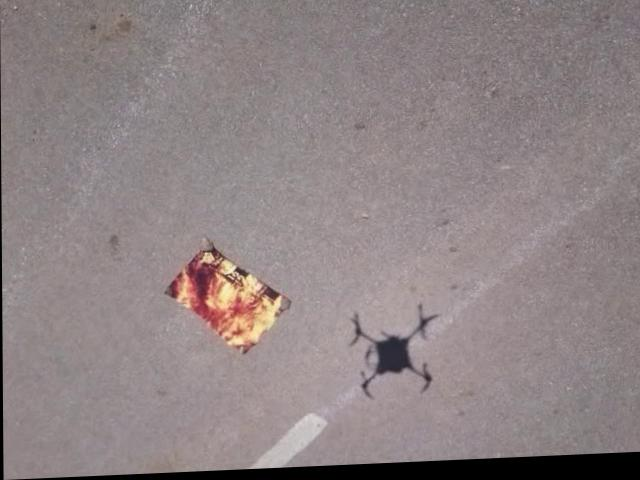fire-poster: (162, 237, 293, 362)
